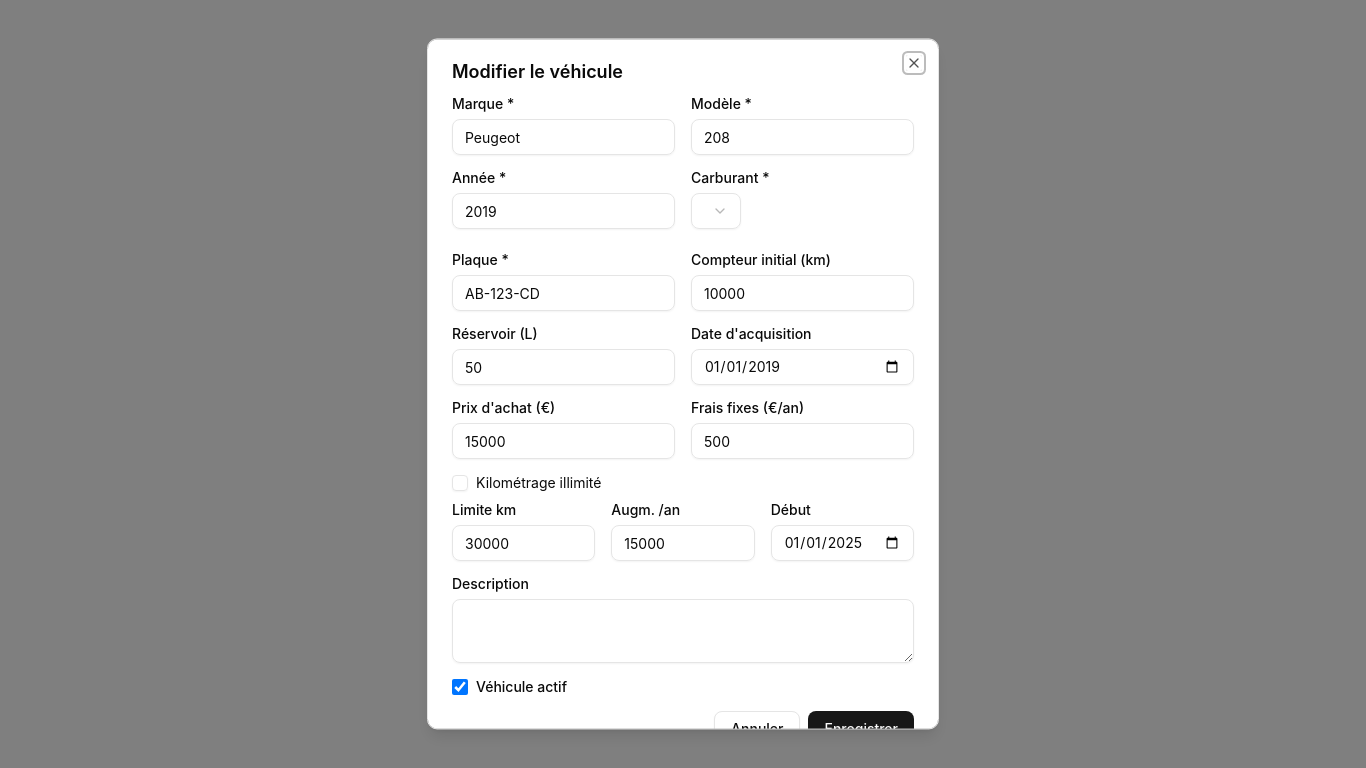
Scenario: VehicleEditDialog › hides the insurance km fields when "Kilométrage illimité" is checked
The width and height of the screenshot is (1366, 768).
Expected: the field showing "Peugeot" is shown, [452,119,675,155]
Expected: the text "Limite km" is shown, [452,501,516,518]
Click the checkbox named "Kilométrage illimité" at [460, 483], box [452,475,468,491]
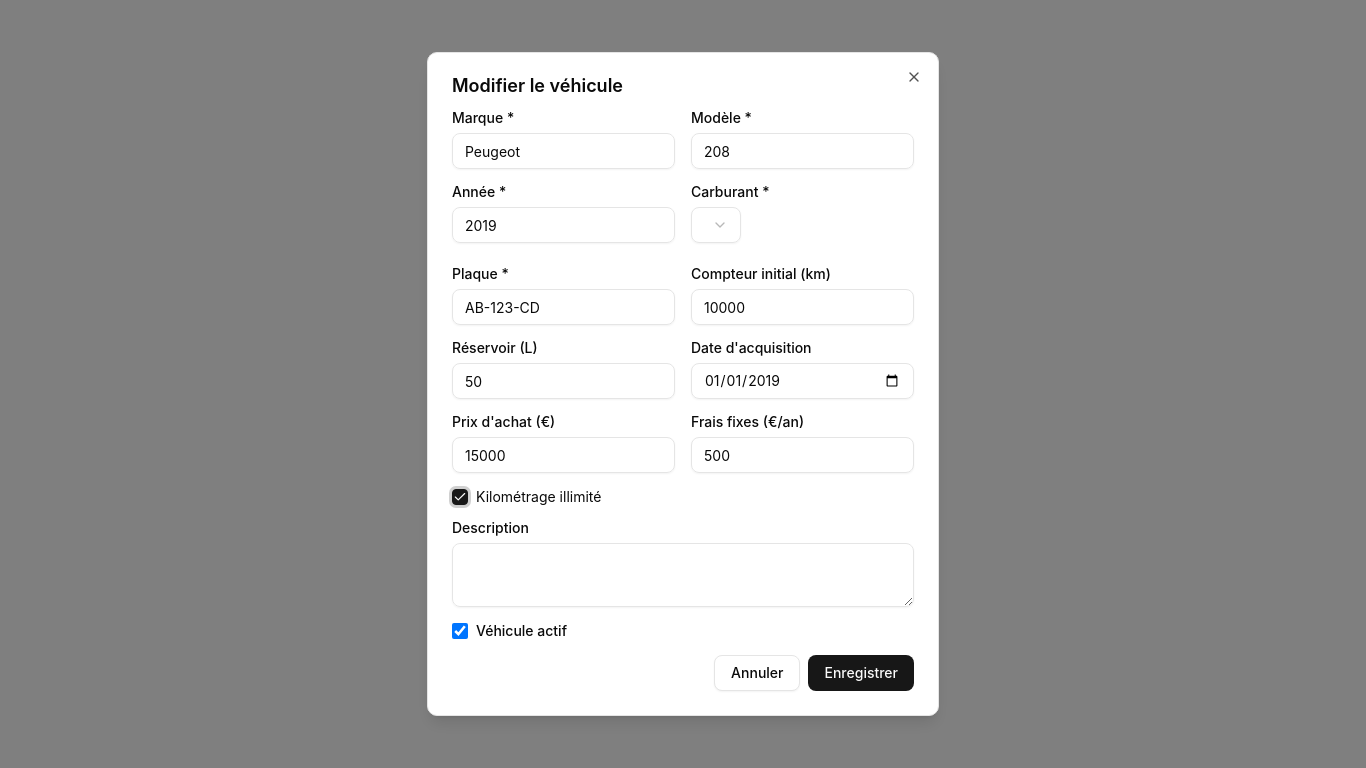
Now the text "Limite km" is gone
